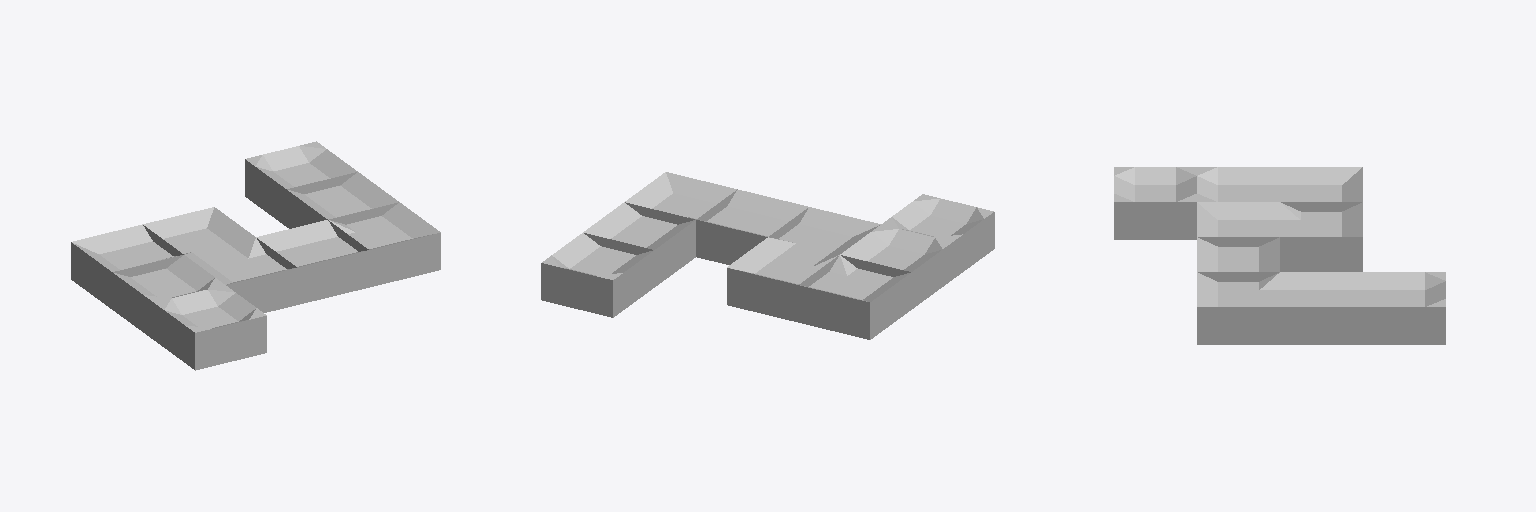
File: 6f_path.obj
3 views of the same model, side by side, from view 1: azimuth 30°, elevation 25°; view 2: azimuth 150°, elevation 25°; view 3: azimuth 270°, elevation 25° (orthographic).
Visible parts, largest first — view 1: foil.hole.1.1_Cube.163, foil.through.3.2_through.153, foil.corner.4.2_corner.818, foil.corner.1.3_corner.815, foil.ending.4.4_ending.324, foil.corner.2.2_corner.816, foil.ending.1.2_ending.323, foil.through.4.3_through.154, foil.corner.2.3_corner.817; view 2: foil.corner.1.3_corner.815, foil.ending.4.4_ending.324, foil.corner.2.3_corner.817, foil.through.3.2_through.153, foil.through.4.3_through.154, foil.hole.1.1_Cube.163, foil.ending.1.2_ending.323, foil.corner.4.2_corner.818, foil.corner.2.2_corner.816; view 3: foil.hole.1.1_Cube.163, foil.through.4.3_through.154, foil.ending.4.4_ending.324, foil.corner.2.3_corner.817, foil.corner.4.2_corner.818, foil.through.3.2_through.153, foil.corner.2.2_corner.816, foil.ending.1.2_ending.323, foil.corner.1.3_corner.815.
Part boxes in pixels (left/top/right/bottom): foil.hole.1.1_Cube.163: left=154, top=285, right=266, bottom=370; foil.through.3.2_through.153: left=256, top=220, right=368, bottom=304; foil.corner.4.2_corner.818: left=329, top=202, right=440, bottom=287; foil.corner.1.3_corner.815: left=71, top=224, right=182, bottom=308; foil.ending.4.4_ending.324: left=245, top=141, right=357, bottom=225; foil.corner.2.2_corner.816: left=185, top=238, right=296, bottom=312; foil.ending.1.2_ending.323: left=112, top=255, right=224, bottom=339; foil.through.4.3_through.154: left=286, top=172, right=398, bottom=228; foil.corner.2.3_corner.817: left=143, top=207, right=255, bottom=259; foil.corner.1.3_corner.815: left=798, top=255, right=911, bottom=339; foil.ending.4.4_ending.324: left=541, top=233, right=654, bottom=317; foil.corner.2.3_corner.817: left=727, top=238, right=838, bottom=321; foil.through.3.2_through.153: left=696, top=189, right=808, bottom=264; foil.through.4.3_through.154: left=583, top=202, right=695, bottom=286; foil.hole.1.1_Cube.163: left=882, top=194, right=994, bottom=278; foil.ending.1.2_ending.323: left=840, top=224, right=952, bottom=308; foil.corner.4.2_corner.818: left=625, top=172, right=736, bottom=224; foil.corner.2.2_corner.816: left=768, top=207, right=880, bottom=259; foil.hole.1.1_Cube.163: left=1114, top=167, right=1196, bottom=239; foil.through.4.3_through.154: left=1280, top=272, right=1362, bottom=344; foil.ending.4.4_ending.324: left=1363, top=272, right=1445, bottom=344; foil.corner.2.3_corner.817: left=1280, top=202, right=1362, bottom=271; foil.corner.4.2_corner.818: left=1197, top=272, right=1279, bottom=344; foil.through.3.2_through.153: left=1197, top=237, right=1279, bottom=281; foil.corner.2.2_corner.816: left=1197, top=202, right=1279, bottom=246; foil.ending.1.2_ending.323: left=1197, top=167, right=1279, bottom=201; foil.corner.1.3_corner.815: left=1280, top=167, right=1362, bottom=201.
Size of the model in its own units: 8 by 1 by 8.